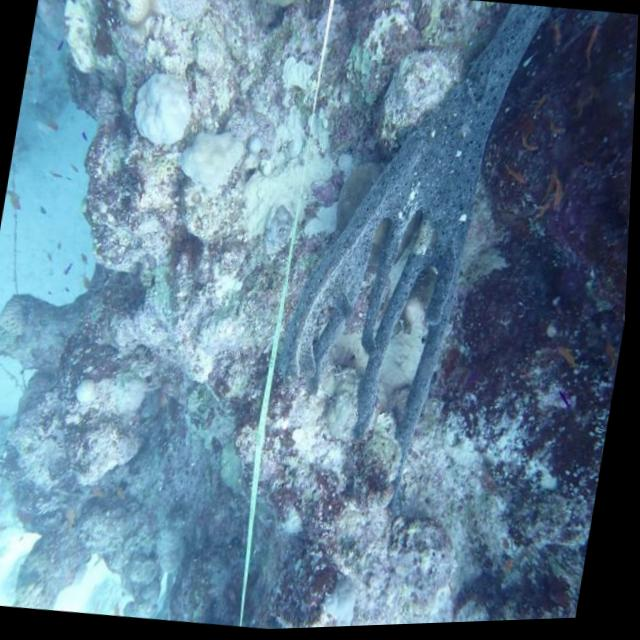Bleached Coral: (112, 46, 261, 217), (308, 337, 386, 462)
